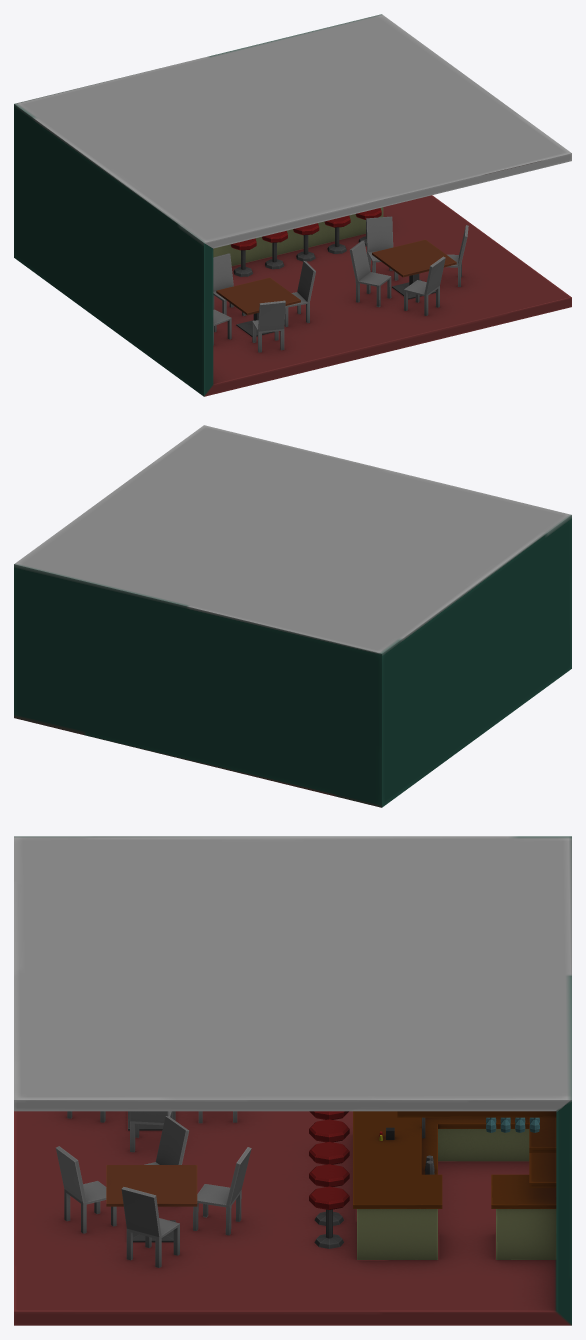
Rendered from Bar.gltf.
The picture shows the model from 3 angles, top to bottom: view 1: azimuth 30°, elevation 25°; view 2: azimuth 150°, elevation 25°; view 3: azimuth 270°, elevation 25°; orthographic projection. The views are drawn at different scales.
Visible parts, largest first — view 1: node-0; view 2: node-0; view 3: node-0.
Part boxes in pixels (left/top/right/bottom): node-0: left=14, top=14, right=571, bottom=396; node-0: left=14, top=425, right=571, bottom=807; node-0: left=14, top=836, right=571, bottom=1325.
Size of the model in its own units: 21.19 by 8.47 by 18.97.
Materials: 2 (2 with a texture image).
